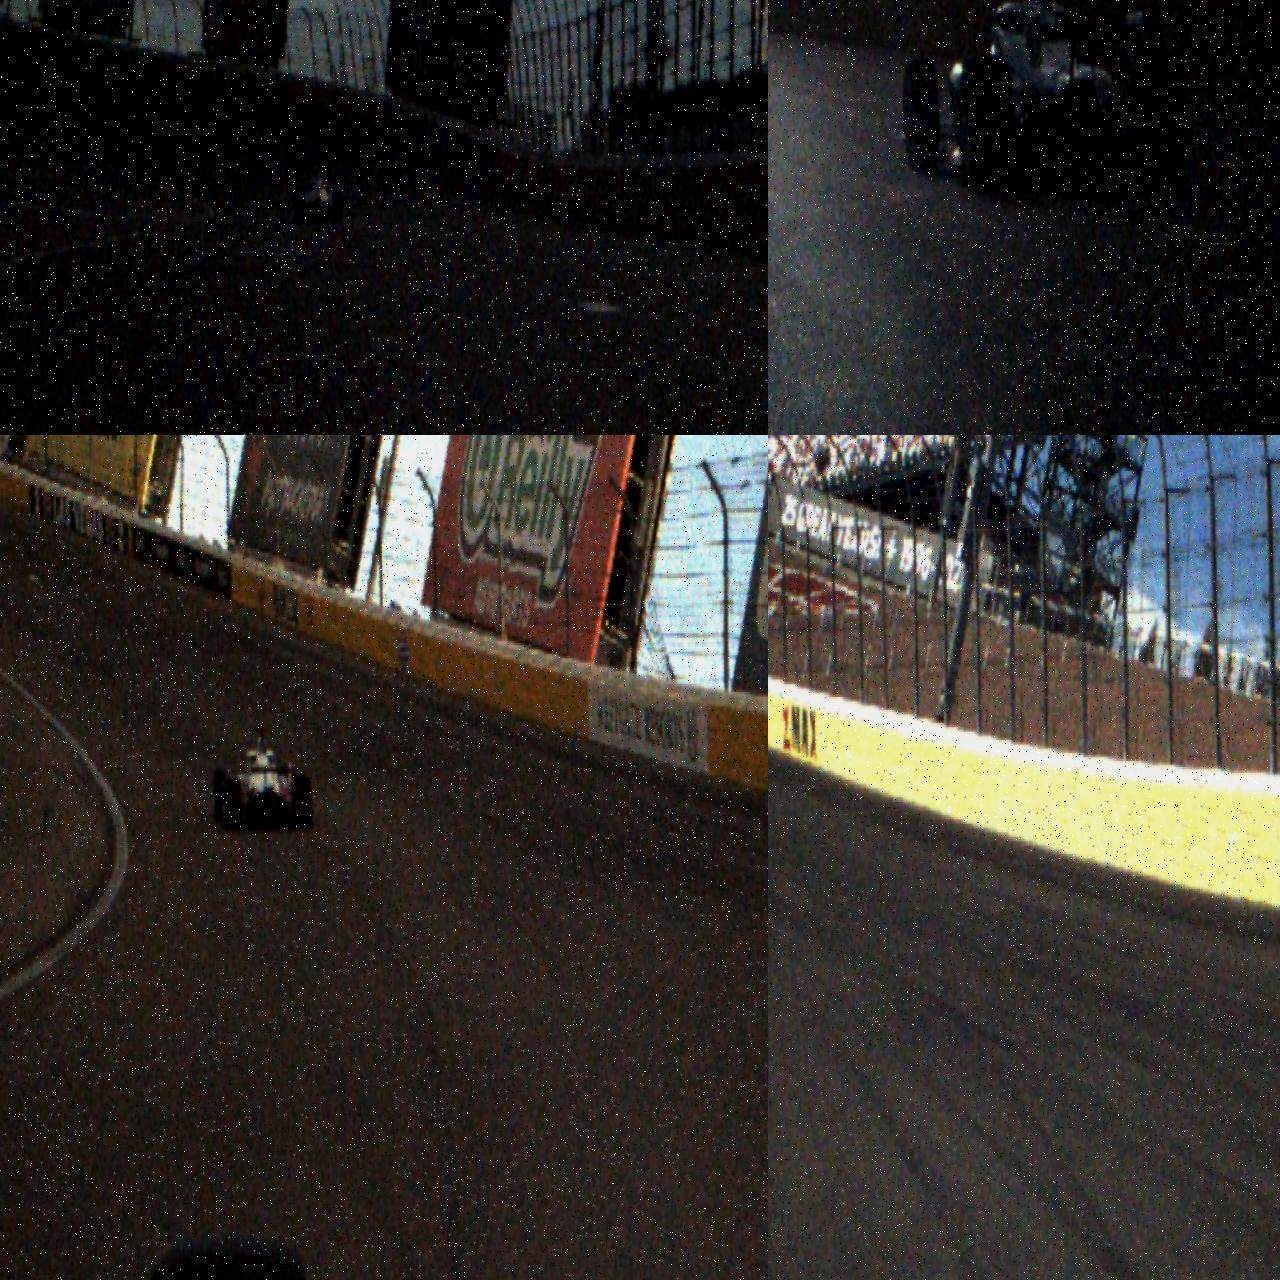AV: (891, 0, 1190, 200), (211, 724, 313, 832), (292, 165, 343, 225)
Wheel: (1126, 49, 1190, 197), (960, 55, 1014, 195), (903, 57, 941, 173), (293, 776, 313, 829), (224, 777, 241, 832), (212, 768, 227, 822), (333, 190, 343, 223), (293, 195, 305, 224)
